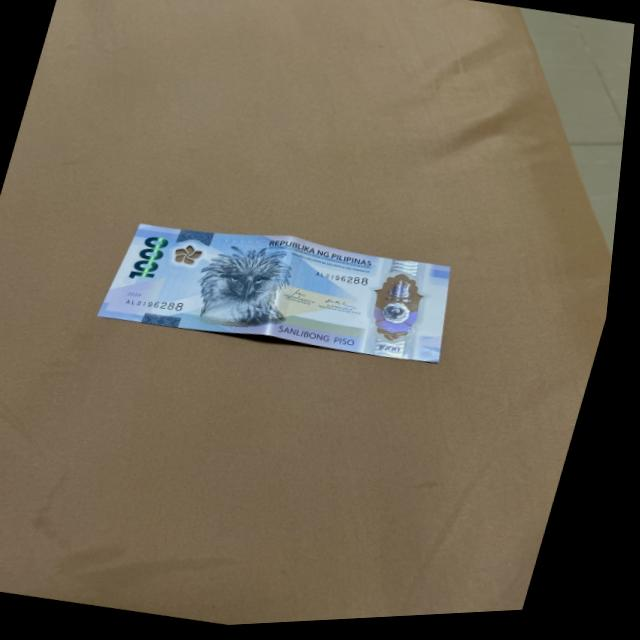clear_window: (367, 272, 440, 349)
eagle: (191, 240, 304, 334)
sampaguita: (175, 243, 208, 270)
